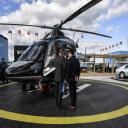helicopter: (5, 2, 117, 98)
